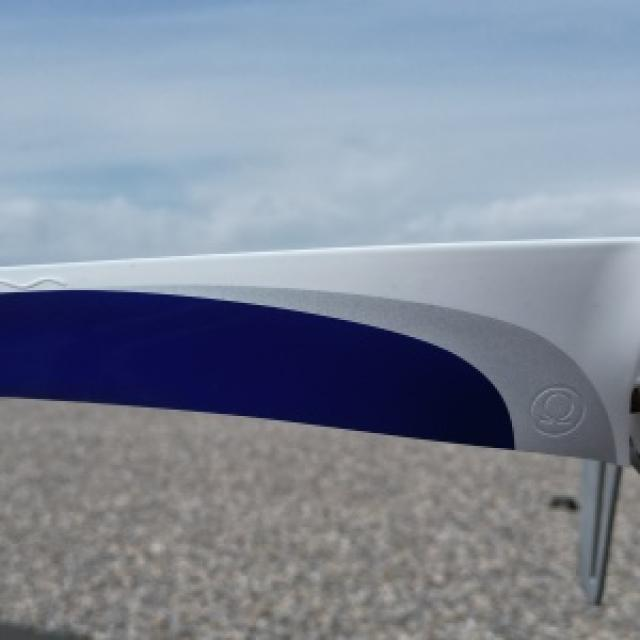healthy: (0, 237, 638, 597)
